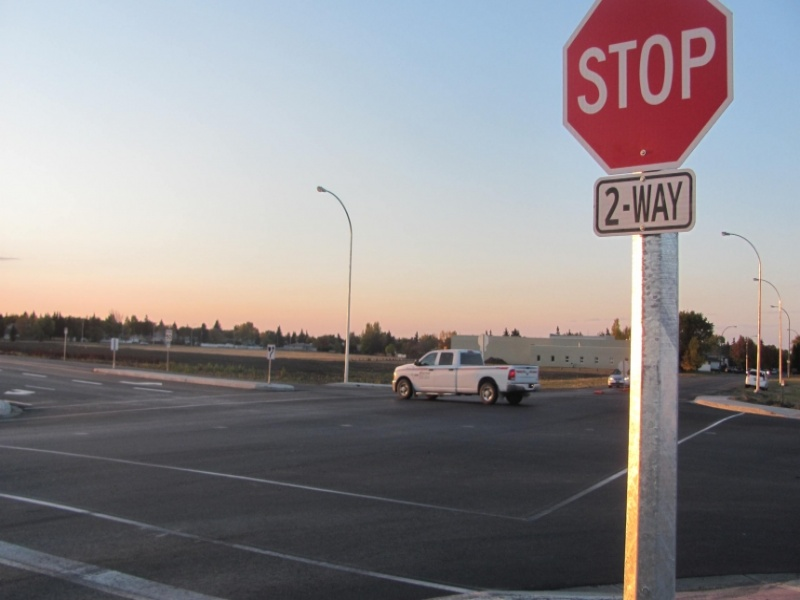stop sign: (557, 1, 744, 180)
